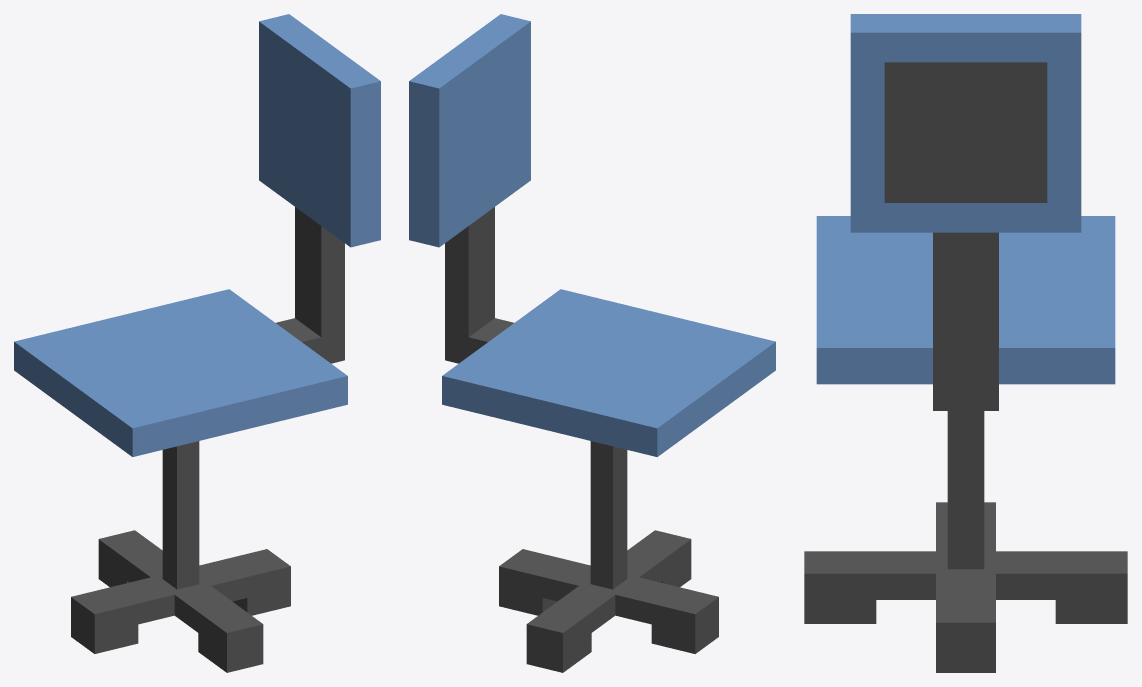
Rendered from officeChair.fbx.
3 renders of one model, left to right at view 1: azimuth 30°, elevation 25°; view 2: azimuth 150°, elevation 25°; view 3: azimuth 270°, elevation 25°, orthographic. The views are drawn at different scales.
Visible parts, largest first — view 1: officeChair; view 2: officeChair; view 3: officeChair.
Part boxes in pixels (x1,y1,x2,y2): officeChair: (14,14,380,672); officeChair: (409,14,775,672); officeChair: (804,14,1127,672).
Bounding box in the file's own units: 131 × 257 × 112.
